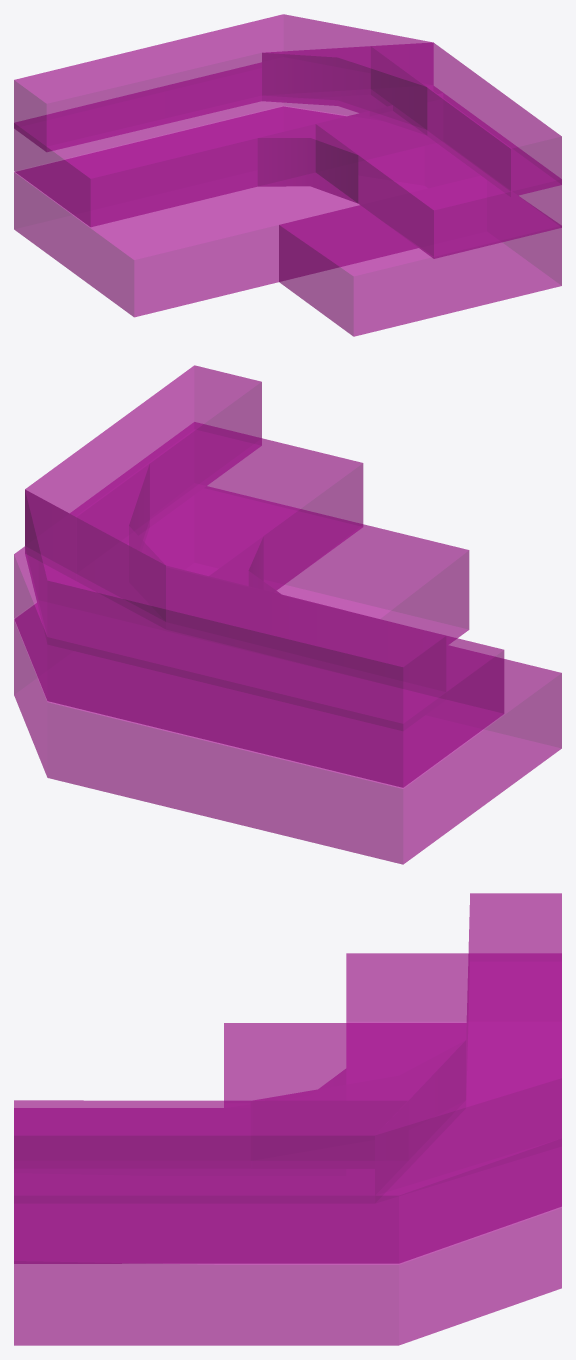
The model's file is SM_Prop_Bleachers_Corner_01_Collision.fbx.
3 views of the same model, one above another, from view 1: azimuth 30°, elevation 25°; view 2: azimuth 150°, elevation 25°; view 3: azimuth 270°, elevation 25° (orthographic). The views are drawn at different scales.
Visible parts, largest first — view 1: SM_Prop_Bleachers_Corner_01_Collision; view 2: SM_Prop_Bleachers_Corner_01_Collision; view 3: SM_Prop_Bleachers_Corner_01_Collision.
Boxes of the visible parts, left/top/right/bottom form: SM_Prop_Bleachers_Corner_01_Collision: left=14, top=14, right=561, bottom=336; SM_Prop_Bleachers_Corner_01_Collision: left=14, top=365, right=561, bottom=864; SM_Prop_Bleachers_Corner_01_Collision: left=14, top=893, right=561, bottom=1345.
Size of the model in its own units: 294 by 119 by 281.
